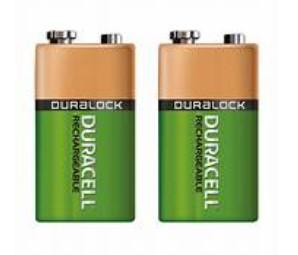9V Battery: (35, 30, 136, 224)
